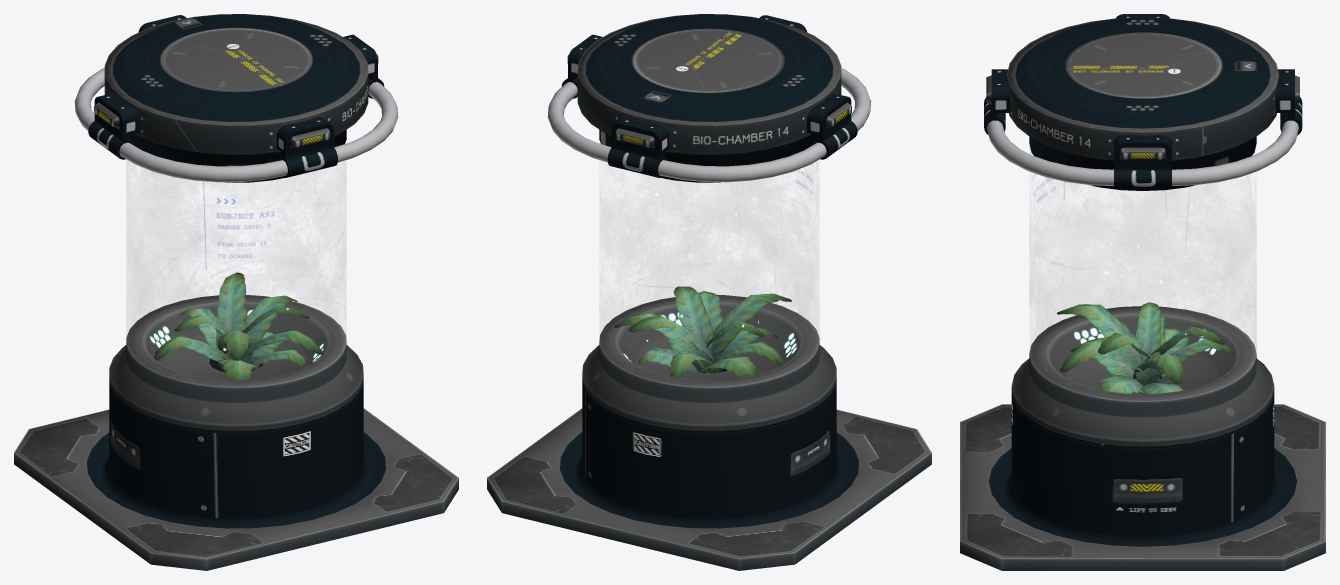
The picture shows the model from 3 angles, left to right: view 1: azimuth 30°, elevation 25°; view 2: azimuth 150°, elevation 25°; view 3: azimuth 270°, elevation 25°; orthographic projection. The views are drawn at different scales.
Parts seen in each view (by area): view 1: HydroUnit_02; view 2: HydroUnit_02; view 3: HydroUnit_02.
Boxes of the visible parts, x1,y1,x2,y2 form: HydroUnit_02: [14, 14, 458, 570]; HydroUnit_02: [487, 14, 931, 570]; HydroUnit_02: [960, 14, 1325, 570].
Size of the model in its own units: 1.76 by 2.28 by 1.76.
4 materials, 4 textured.
